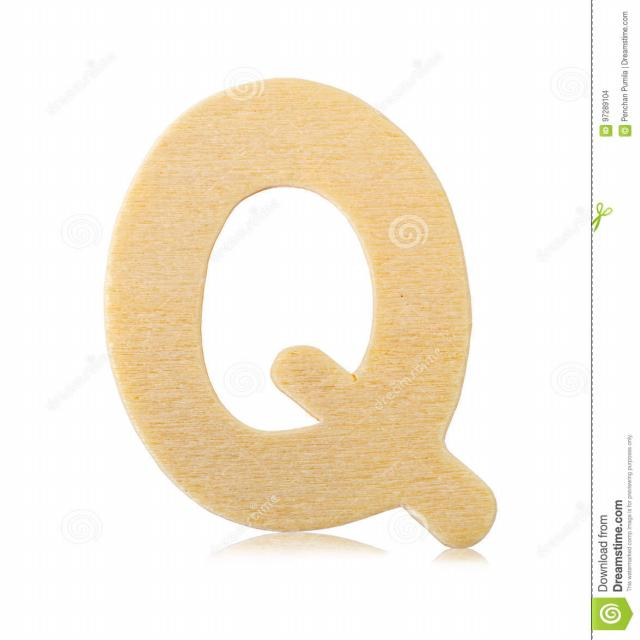Q: (68, 34, 546, 562)
